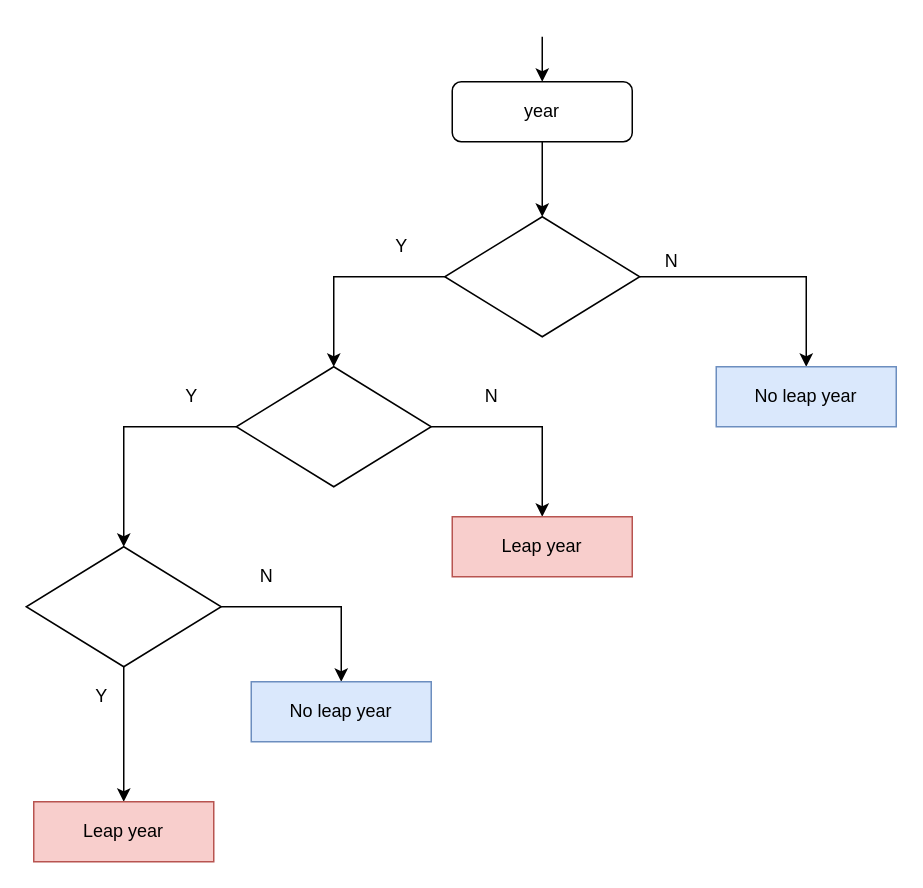
Image size: 923x888. Some labels were removed from this diagram. Here are the shapes that lost their labels. From the top down, the centre of each, then its label:
At (x=541, y=276): "year % 4 == 0 ?".
At (x=333, y=426): "year % 100 == 0 ?".
At (x=123, y=606): "year % 400 == 0 ?".
